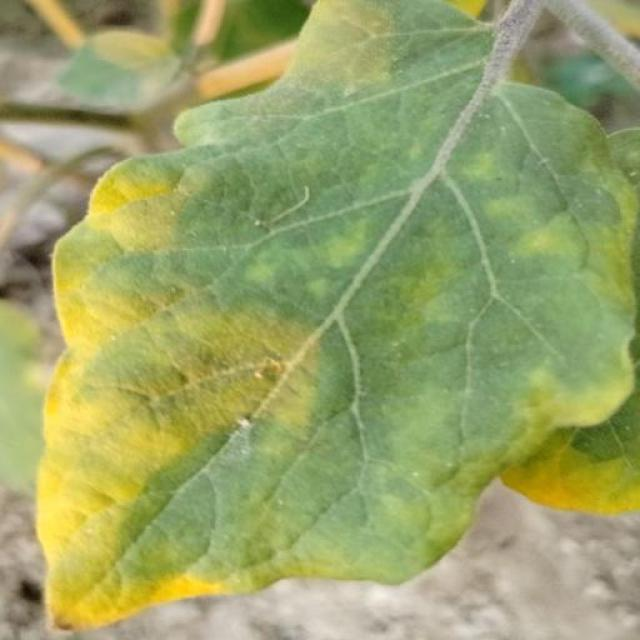leaf_spot: (35, 335, 210, 497), (475, 424, 640, 571), (182, 292, 328, 443), (30, 481, 168, 633), (46, 222, 205, 352), (572, 117, 640, 373), (391, 440, 498, 594), (58, 154, 220, 252), (231, 546, 428, 614), (510, 213, 640, 315), (513, 350, 640, 454), (143, 536, 260, 630), (285, 2, 399, 86), (2, 289, 39, 505), (379, 376, 462, 466), (225, 479, 303, 568), (386, 267, 472, 340), (414, 231, 486, 317), (89, 24, 174, 73), (318, 208, 362, 276), (457, 145, 516, 195), (575, 0, 640, 43), (476, 174, 524, 230), (167, 107, 219, 155), (247, 427, 300, 468), (436, 1, 505, 30), (134, 60, 180, 103), (246, 257, 286, 297), (402, 130, 428, 172), (491, 60, 509, 98)
